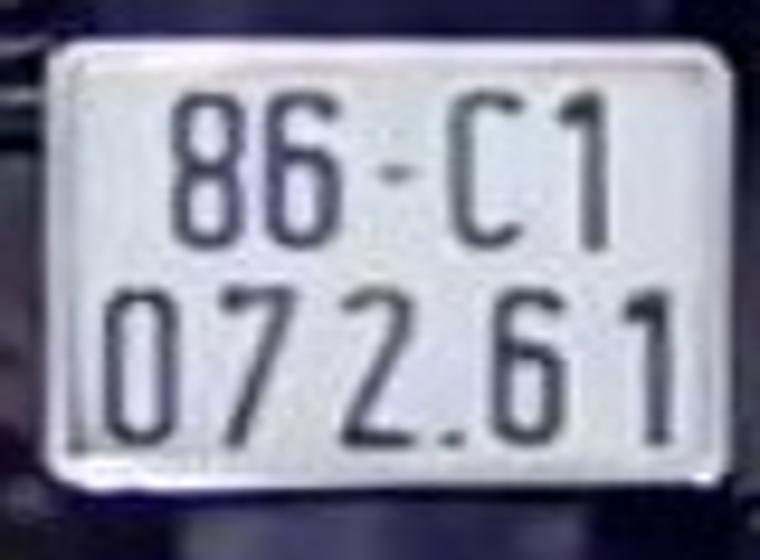-: (370, 157, 416, 188)
.: (431, 422, 470, 456)
0: (97, 286, 190, 443)
1: (620, 282, 679, 454), (562, 87, 614, 261)
2: (334, 276, 419, 455)
6: (489, 278, 574, 454), (261, 87, 348, 247)
7: (218, 276, 302, 455)
8: (167, 85, 252, 250)
C: (442, 87, 534, 247)
